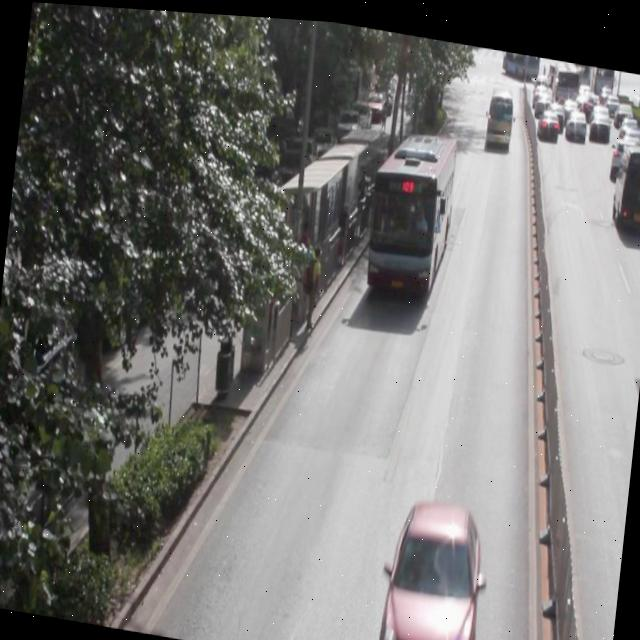car: (378, 486, 488, 640)
truck: (608, 131, 640, 221)
van: (366, 120, 456, 297)
